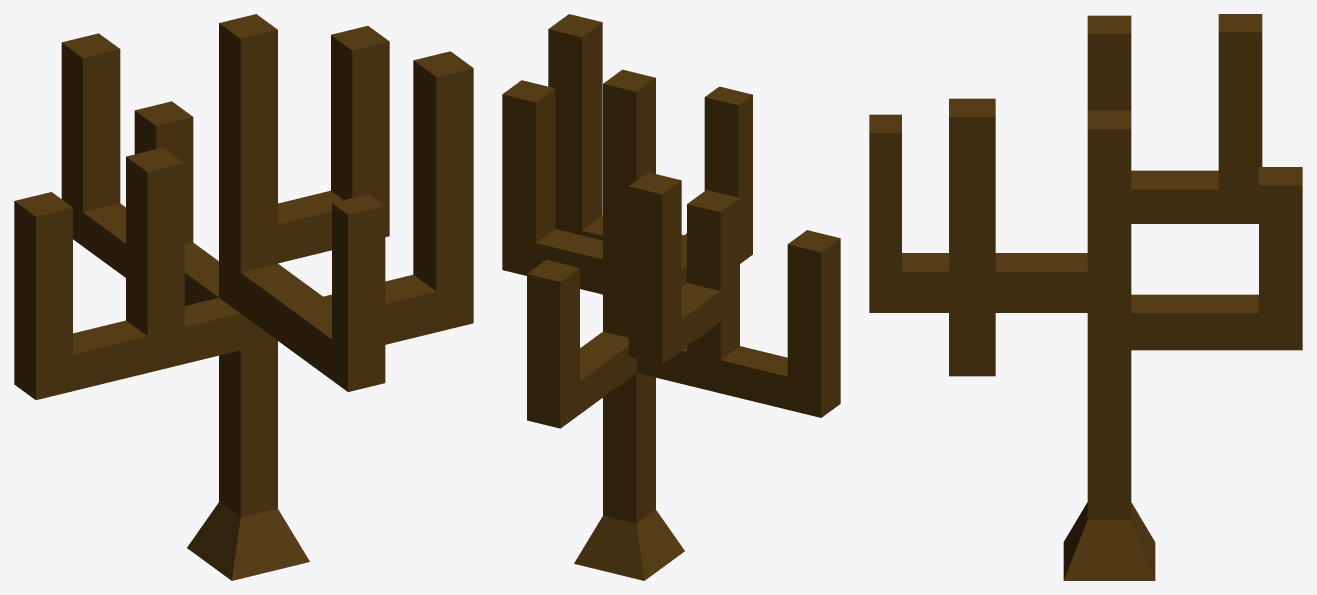
The model's file is forest4(no leaves).fbx.
The picture shows the model from 3 angles, left to right: view 1: azimuth 30°, elevation 25°; view 2: azimuth 150°, elevation 25°; view 3: azimuth 270°, elevation 25°; orthographic projection. The views are drawn at different scales.
Visible parts, largest first — view 1: forest4(no leaves); view 2: forest4(no leaves); view 3: forest4(no leaves).
Boxes of the visible parts, left/top/right/bottom form: forest4(no leaves): left=14, top=14, right=473, bottom=580; forest4(no leaves): left=502, top=14, right=840, bottom=580; forest4(no leaves): left=869, top=14, right=1302, bottom=580.
Bounding box in the file's own units: 717 × 981 × 718.
Materials: 1 (1 with a texture image).
